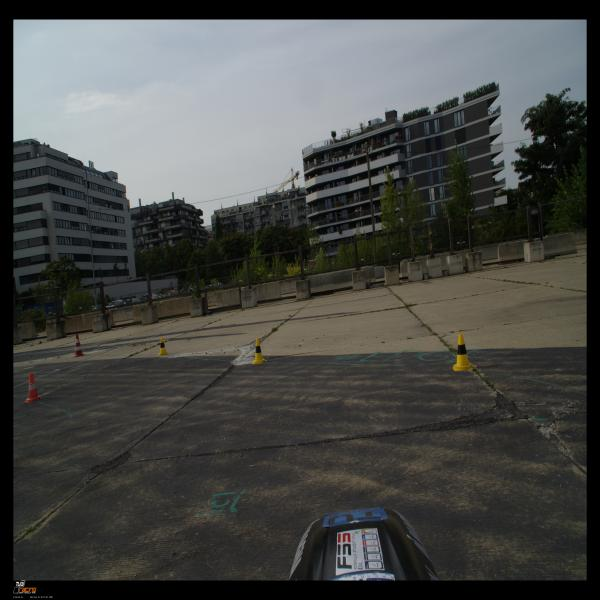large_orange_cone: (73, 334, 85, 357)
orange_cone: (25, 373, 42, 403)
yellow_cone: (453, 333, 473, 371), (251, 338, 267, 364), (157, 337, 169, 356)
